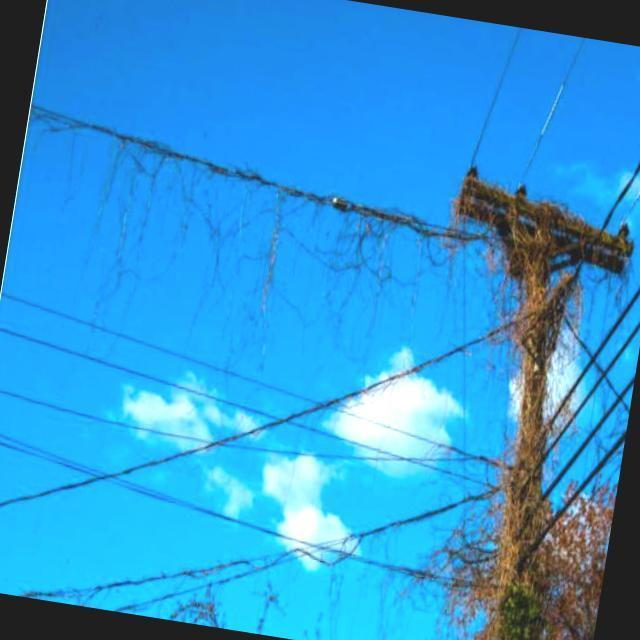critical vegetation: (379, 171, 640, 640), (64, 124, 480, 292)
